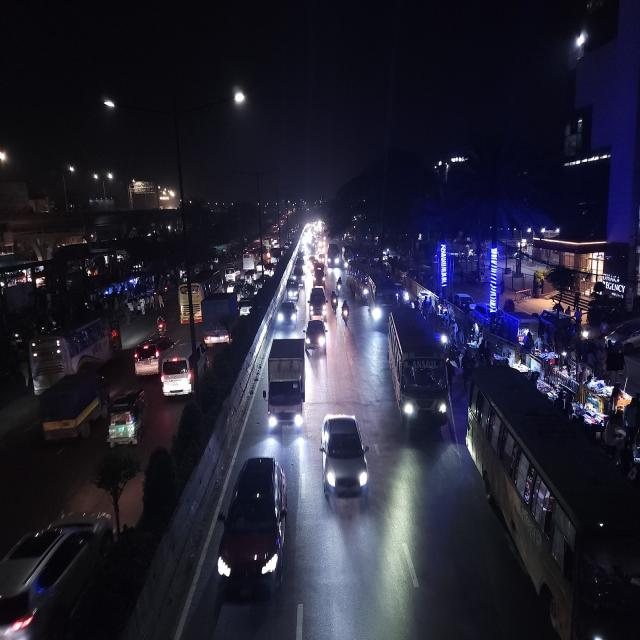bus: (465, 378, 640, 640), (382, 306, 454, 437), (38, 303, 122, 371), (364, 267, 394, 326), (177, 281, 205, 324)
car: (0, 503, 118, 640), (213, 446, 291, 610), (316, 410, 368, 508), (158, 338, 204, 398), (132, 335, 172, 377), (306, 320, 328, 363), (273, 295, 299, 329), (310, 283, 329, 321)
cng: (106, 388, 149, 449), (286, 277, 304, 301)
motorcycle: (153, 313, 170, 335), (340, 301, 350, 326), (334, 277, 346, 293), (331, 288, 338, 314)
truck: (39, 360, 106, 443), (262, 330, 308, 443), (200, 293, 242, 349)
